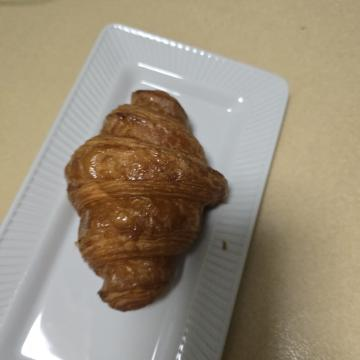croissant: (79, 128, 320, 307)
